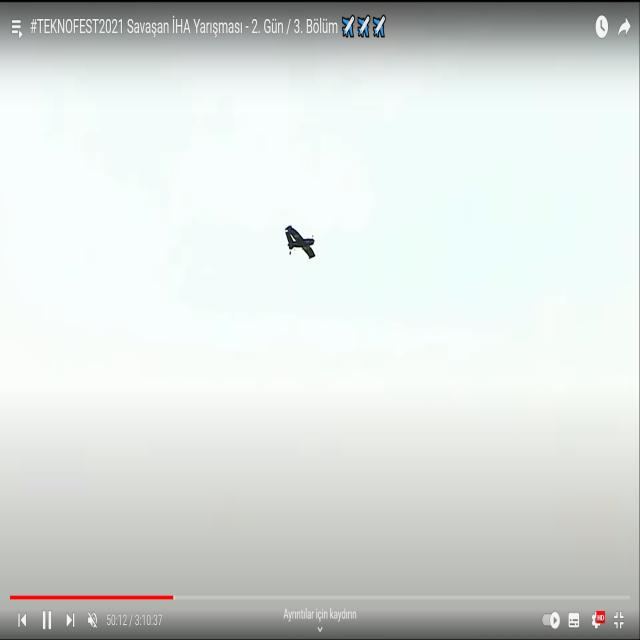iha: (284, 226, 316, 259)
